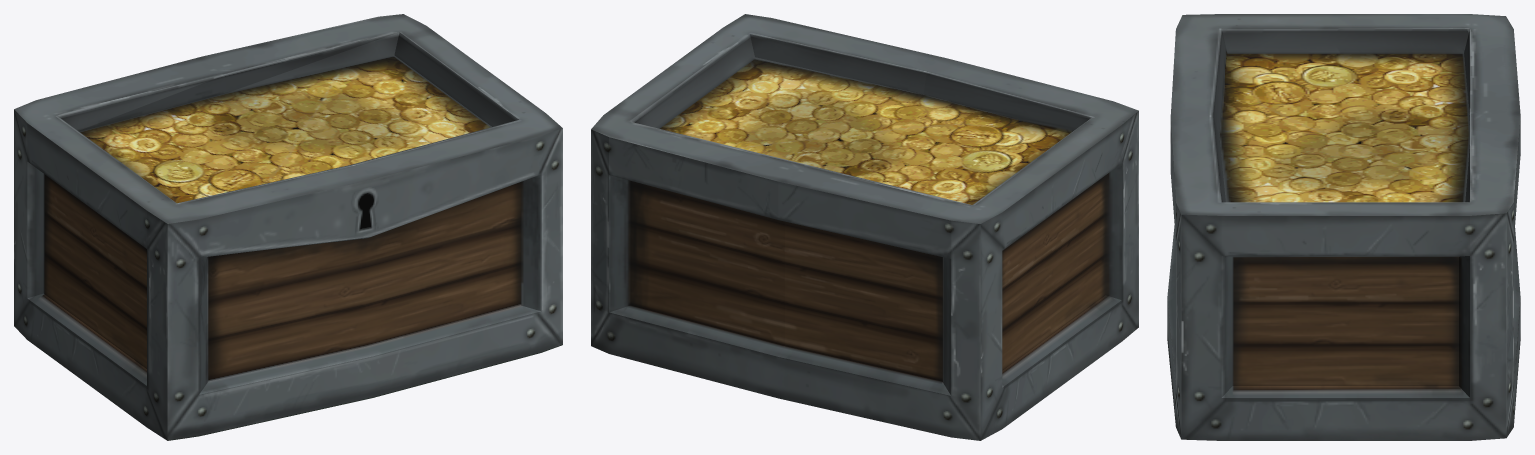
File: chestMesh.FBX
The picture shows the model from 3 angles, left to right: view 1: azimuth 30°, elevation 25°; view 2: azimuth 150°, elevation 25°; view 3: azimuth 270°, elevation 25°; orthographic projection. The views are drawn at different scales.
Parts seen in each view (by area): view 1: chest; view 2: chest; view 3: chest.
Part boxes in pixels (bbox=[...]): chest: bbox=[14, 14, 562, 440]; chest: bbox=[591, 14, 1138, 440]; chest: bbox=[1167, 14, 1520, 440].
Size of the model in its own units: 1008 by 524 by 745.
